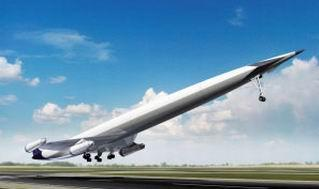airplane: (22, 46, 308, 161)
